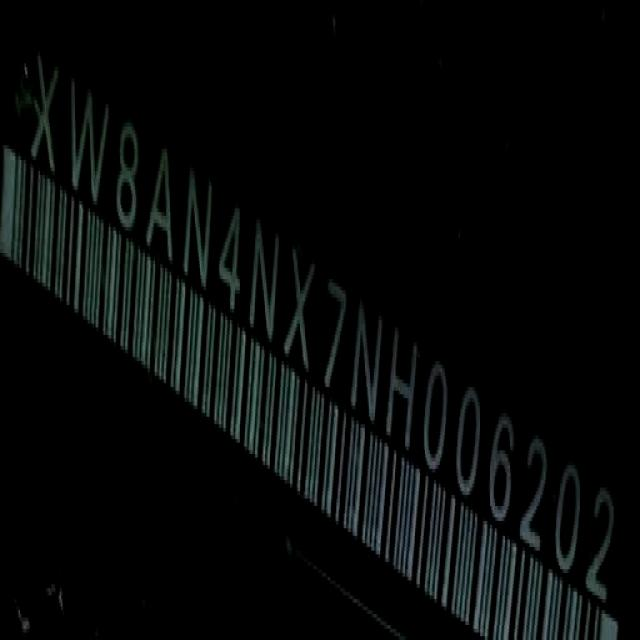0: (424, 358, 451, 478), (454, 383, 481, 501), (556, 460, 582, 579)
2: (519, 427, 549, 568), (584, 488, 616, 609)
4: (216, 198, 245, 319)
6: (145, 134, 174, 272), (488, 408, 519, 533)
7: (320, 279, 350, 402)
8: (116, 122, 140, 231)
H: (386, 335, 420, 454)
N: (351, 303, 383, 427), (251, 216, 279, 350), (183, 168, 212, 291)
W: (70, 82, 111, 207)
X: (281, 252, 320, 374), (31, 52, 60, 176)
